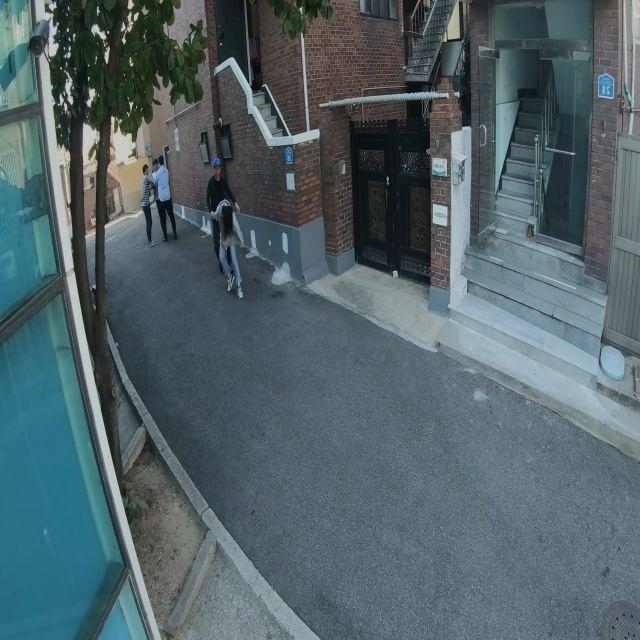fight: (203, 154, 250, 298)
non-fight: (138, 161, 157, 246)
